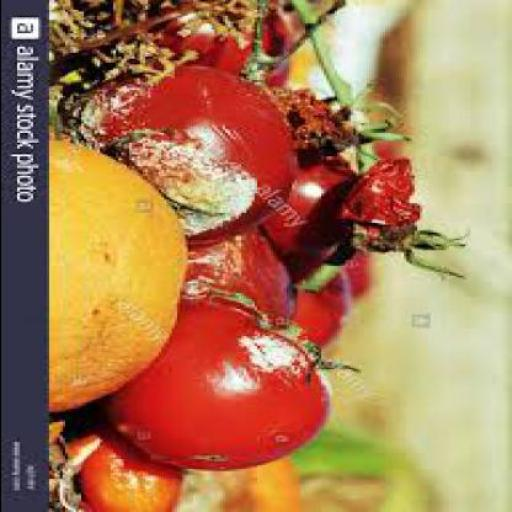biodegradable: (62, 60, 302, 246), (109, 290, 360, 466), (50, 137, 192, 408), (342, 152, 470, 280), (131, 0, 299, 89), (296, 430, 442, 510), (264, 156, 358, 280), (181, 227, 301, 321), (66, 420, 184, 510), (278, 86, 406, 163), (176, 454, 304, 510), (293, 272, 354, 343), (339, 246, 376, 296)
